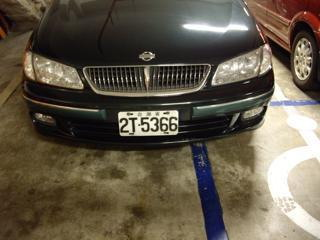plate: (116, 109, 181, 136)
